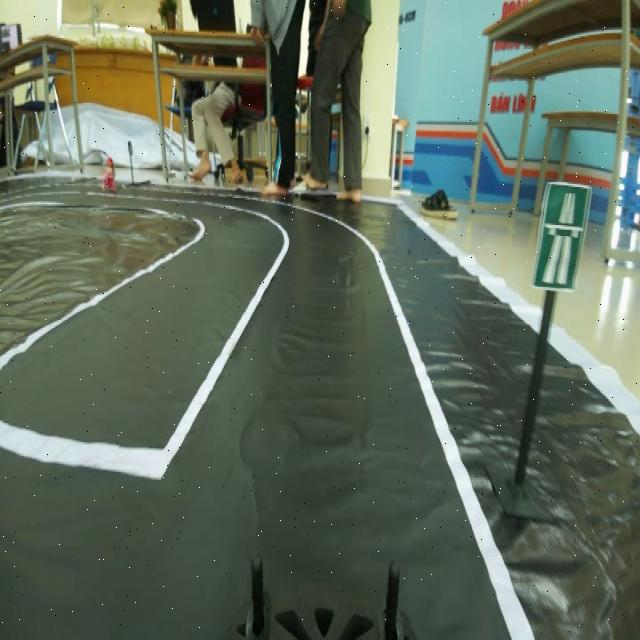highway_entry: (534, 167, 588, 305)
